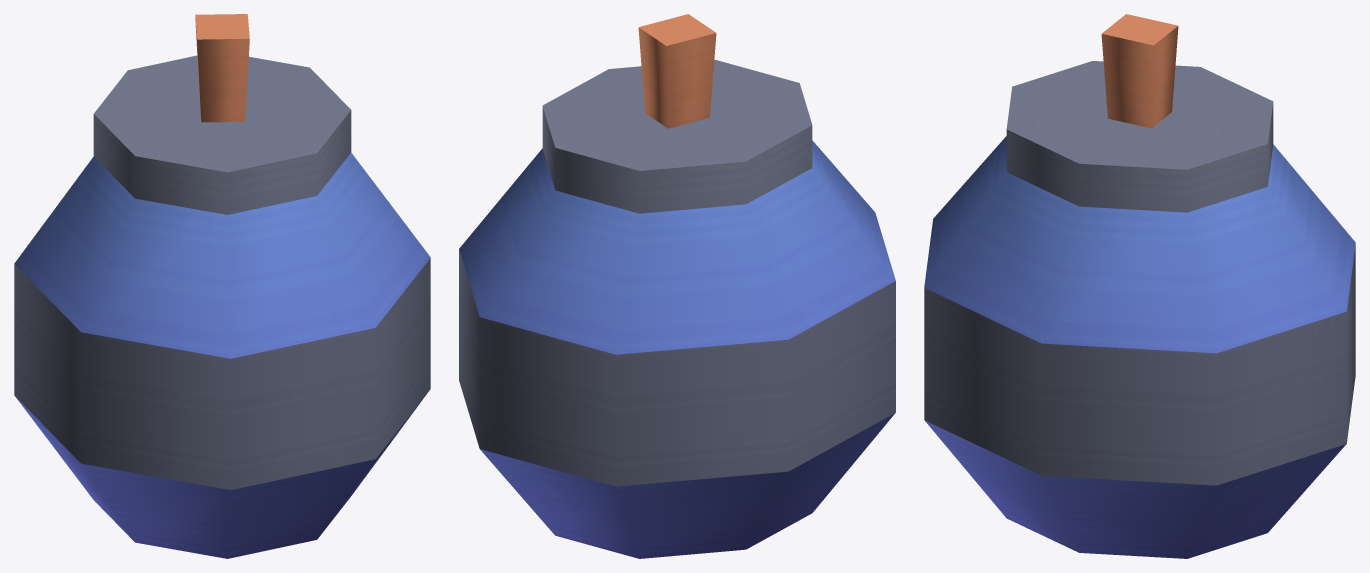
File: bomb.007_lev2.glb
The picture shows the model from 3 angles, left to right: view 1: azimuth 30°, elevation 25°; view 2: azimuth 150°, elevation 25°; view 3: azimuth 270°, elevation 25°; orthographic projection.
Visible parts, largest first — view 1: bomb.007_lev2; view 2: bomb.007_lev2; view 3: bomb.007_lev2.
Boxes of the visible parts, box(x1,y1,x2,y2) form: bomb.007_lev2: box(14, 14, 430, 558); bomb.007_lev2: box(459, 14, 895, 558); bomb.007_lev2: box(924, 14, 1355, 558).
Size of the model in its own units: 1.56 by 2.12 by 1.61.
1 material, 1 textured.
